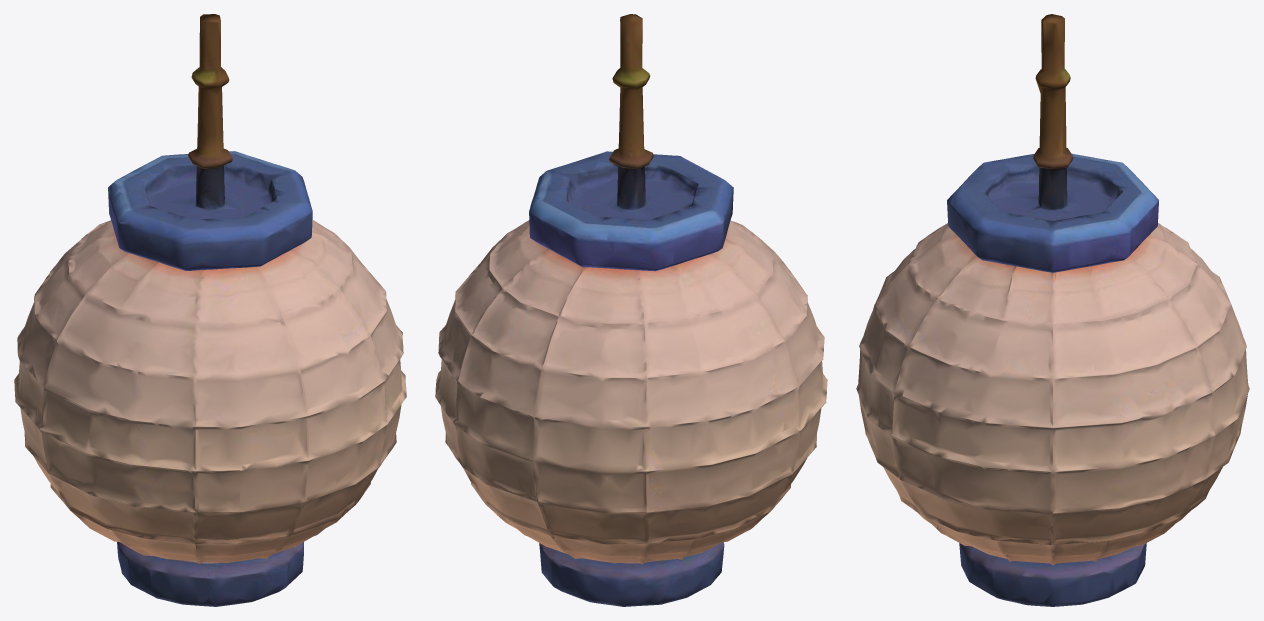
The picture shows the model from 3 angles, left to right: view 1: azimuth 30°, elevation 25°; view 2: azimuth 150°, elevation 25°; view 3: azimuth 270°, elevation 25°; orthographic projection.
Parts seen in each view (by area): view 1: tripo_node_00d4ade2-5919-45d7-ba6f-203a9110f40b; view 2: tripo_node_00d4ade2-5919-45d7-ba6f-203a9110f40b; view 3: tripo_node_00d4ade2-5919-45d7-ba6f-203a9110f40b.
Part boxes in pixels (bbox=[...]): tripo_node_00d4ade2-5919-45d7-ba6f-203a9110f40b: bbox=[14, 14, 406, 606]; tripo_node_00d4ade2-5919-45d7-ba6f-203a9110f40b: bbox=[435, 14, 827, 606]; tripo_node_00d4ade2-5919-45d7-ba6f-203a9110f40b: bbox=[856, 14, 1249, 606].
Size of the model in its own units: 0.1934 by 0.3 by 0.1935.
Materials: 1 (1 with a texture image).
